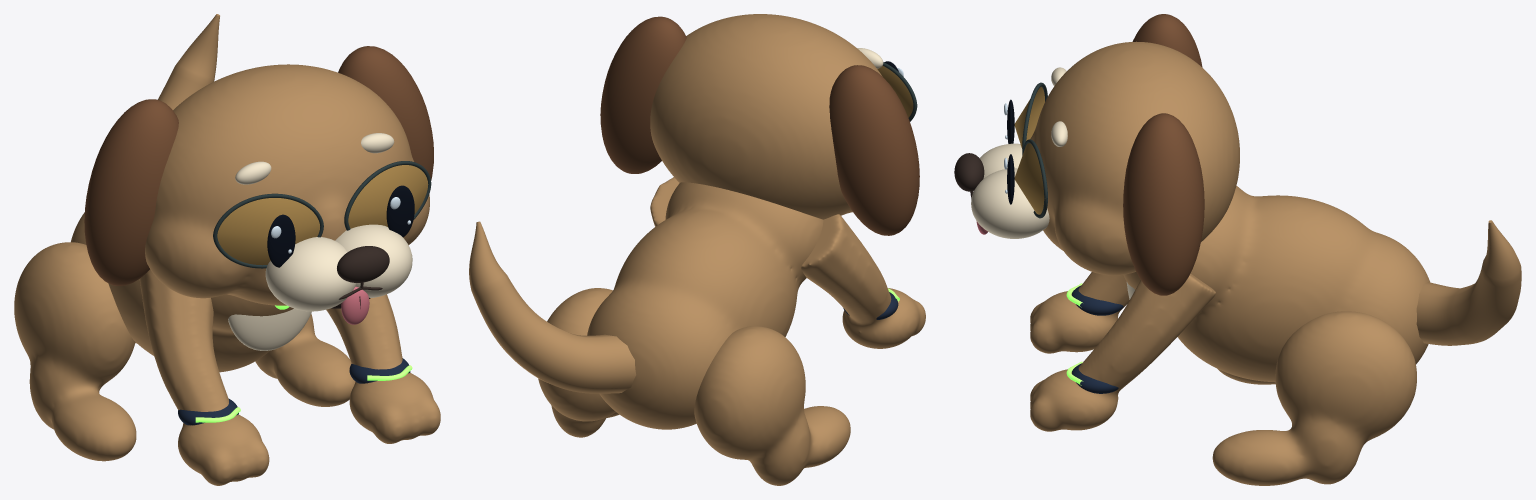
File: green-dog-rider.glb
The picture shows the model from 3 angles, left to right: view 1: azimuth 30°, elevation 25°; view 2: azimuth 150°, elevation 25°; view 3: azimuth 270°, elevation 25°; orthographic projection. The views are drawn at different scales.
Parts seen in each view (by area): view 1: Feline head sculpt, Bent rear leg, Foreleg and soft paw, Floppy puppy ear, Foreleg and soft paw.001, Bent rear leg.001, Floppy puppy ear.001, Cat torso sculpt, Puppy muzzle, Almond jade eye, Almond jade eye.001, Happy raised tail (+12 smaller); view 2: Cat torso sculpt, Feline head sculpt, Bent rear leg, Floppy puppy ear, Happy raised tail, Floppy puppy ear.001, Foreleg and soft paw, Bent rear leg.001, Foreleg and soft paw.001, Almond jade eye; view 3: Cat torso sculpt, Feline head sculpt, Bent rear leg.001, Floppy puppy ear.001, Foreleg and soft paw.001, Happy raised tail, Foreleg and soft paw, Puppy muzzle.001, Floppy puppy ear, Almond jade eye.001, Puppy button nose, Puppy muzzle (+2 smaller).
Part boxes in pixels (left/top/right/bottom): Feline head sculpt: left=145, top=64, right=429, bottom=305; Bent rear leg: left=14, top=242, right=136, bottom=461; Foreleg and soft paw: left=139, top=269, right=269, bottom=485; Floppy puppy ear: left=84, top=99, right=178, bottom=285; Foreleg and soft paw.001: left=326, top=294, right=440, bottom=443; Bent rear leg.001: left=255, top=314, right=355, bottom=406; Floppy puppy ear.001: left=338, top=46, right=433, bottom=180; Cat torso sculpt: left=71, top=212, right=293, bottom=372; Puppy muzzle: left=265, top=237, right=355, bottom=311; Almond jade eye: left=217, top=198, right=319, bottom=265; Almond jade eye.001: left=348, top=165, right=428, bottom=228; Happy raised tail: left=158, top=14, right=219, bottom=109; Cat torso sculpt: left=587, top=182, right=823, bottom=429; Feline head sculpt: left=650, top=14, right=882, bottom=219; Bent rear leg: left=694, top=326, right=850, bottom=485; Floppy puppy ear: left=829, top=65, right=919, bottom=235; Happy raised tail: left=469, top=221, right=636, bottom=393; Floppy puppy ear.001: left=600, top=16, right=686, bottom=173; Foreleg and soft paw: left=801, top=214, right=925, bottom=348; Bent rear leg.001: left=538, top=288, right=619, bottom=437; Foreleg and soft paw.001: left=650, top=177, right=679, bottom=226; Almond jade eye: left=877, top=65, right=913, bottom=117; Cat torso sculpt: left=1123, top=186, right=1430, bottom=382; Feline head sculpt: left=1030, top=41, right=1239, bottom=275; Bent rear leg.001: left=1212, top=311, right=1416, bottom=485; Floppy puppy ear.001: left=1123, top=113, right=1204, bottom=295; Foreleg and soft paw.001: left=1030, top=273, right=1215, bottom=431; Happy raised tail: left=1416, top=220, right=1521, bottom=345; Foreleg and soft paw: left=1030, top=272, right=1129, bottom=353; Puppy muzzle.001: left=971, top=168, right=1049, bottom=238; Floppy puppy ear: left=1132, top=14, right=1202, bottom=67; Almond jade eye.001: left=1014, top=143, right=1045, bottom=214; Puppy button nose: left=954, top=153, right=984, bottom=191; Puppy muzzle: left=979, top=143, right=1022, bottom=178.
Size of the model in its own units: 1.35 by 1.52 by 2.08.
